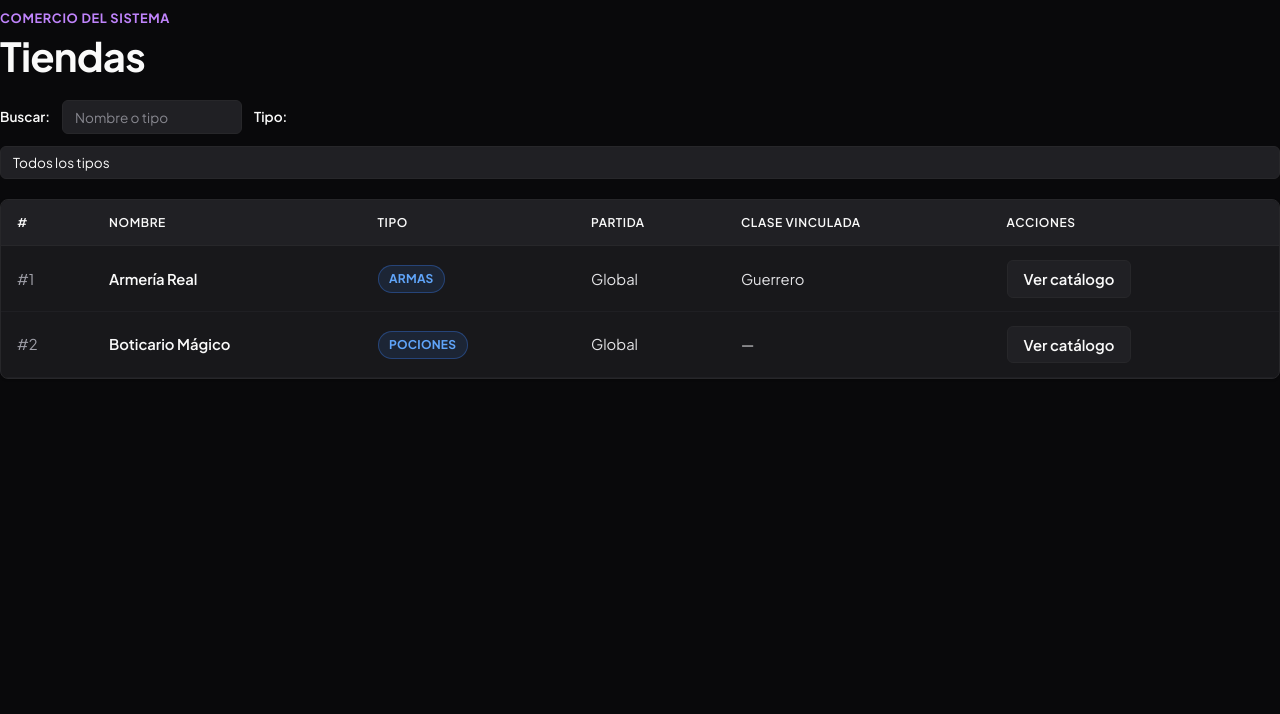
Test: TiendasPage › no permite comprar objetos en la tienda ya que la compra es exclusiva de Catálogo > Objetos
expect the text "Armería Real" is shown: met, box [93,246,362,312]
Click the button "Ver catálogo" in the row of "Armería Real". click: (1069, 279)
box: [1007,260,1131,298]
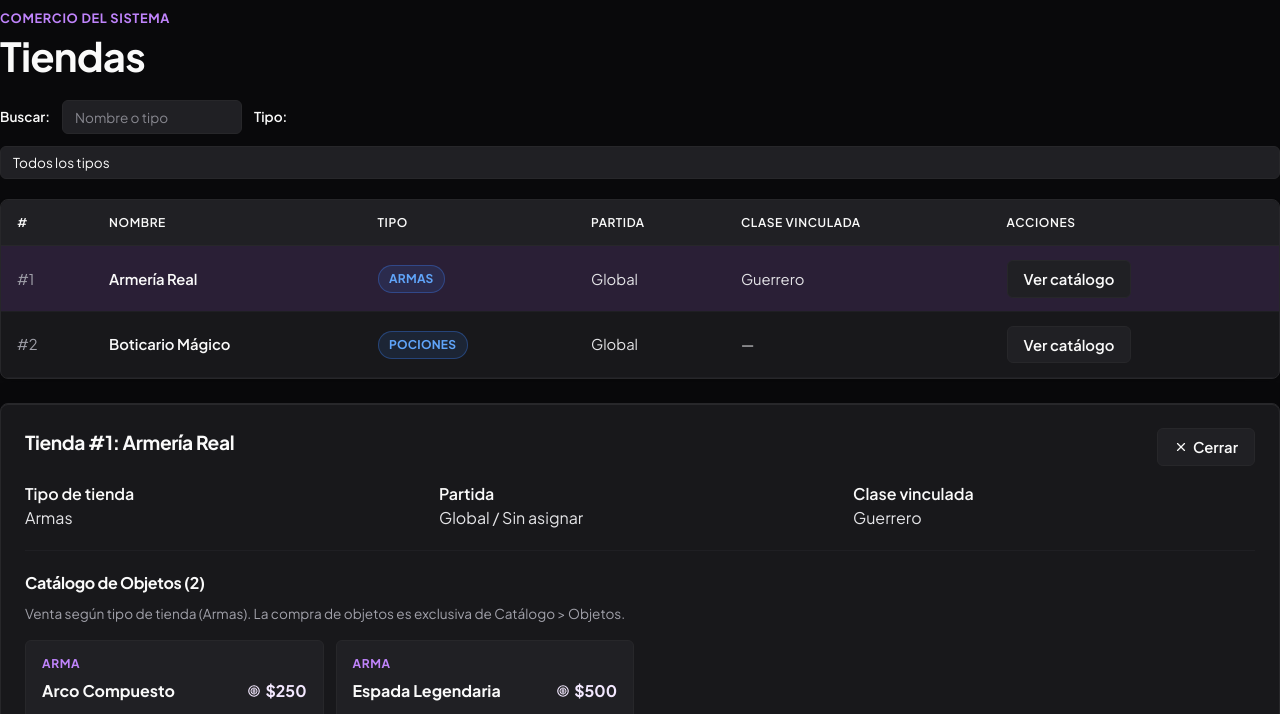
expect the heading "Catálogo de Objetos (2)" is shown: met, box [25,572,205,593]
